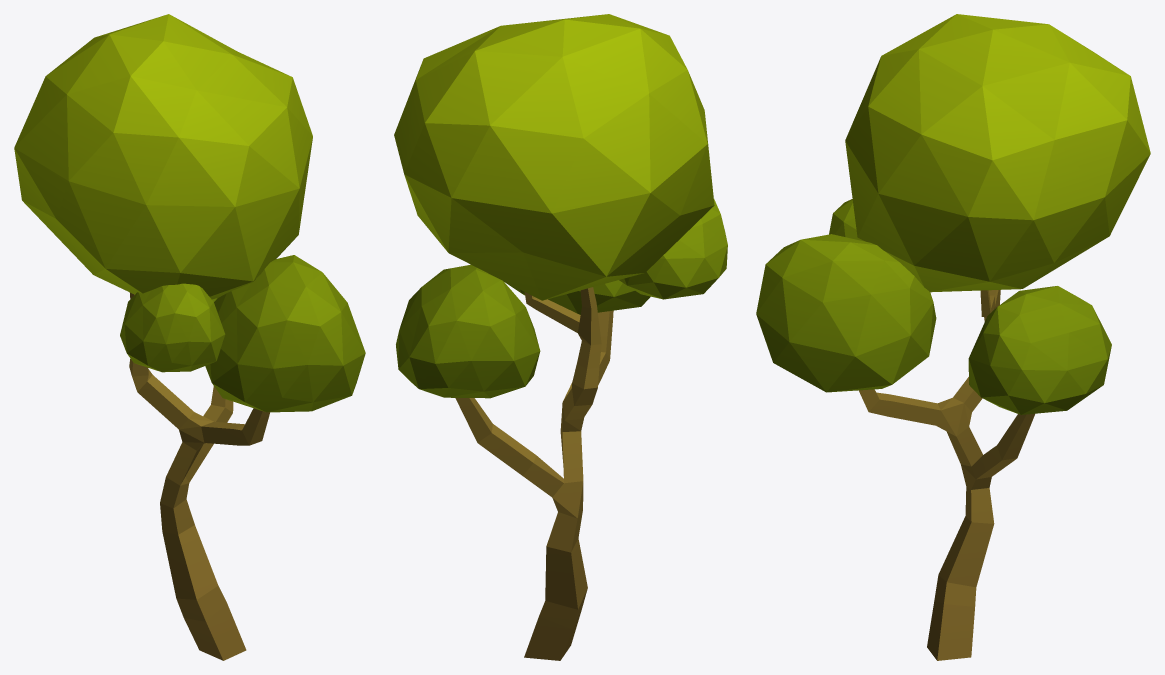
File: tree_2.fbx
The picture shows the model from 3 angles, left to right: view 1: azimuth 30°, elevation 25°; view 2: azimuth 150°, elevation 25°; view 3: azimuth 270°, elevation 25°; orthographic projection. The views are drawn at different scales.
Visible parts, largest first — view 1: tree_2; view 2: tree_2; view 3: tree_2.
Boxes of the visible parts, box(x1,y1,x2,y2) form: tree_2: box(14, 14, 365, 660); tree_2: box(394, 14, 727, 660); tree_2: box(756, 14, 1150, 660).
Bounding box in the file's own units: 2.29 × 5.24 × 3.1.
